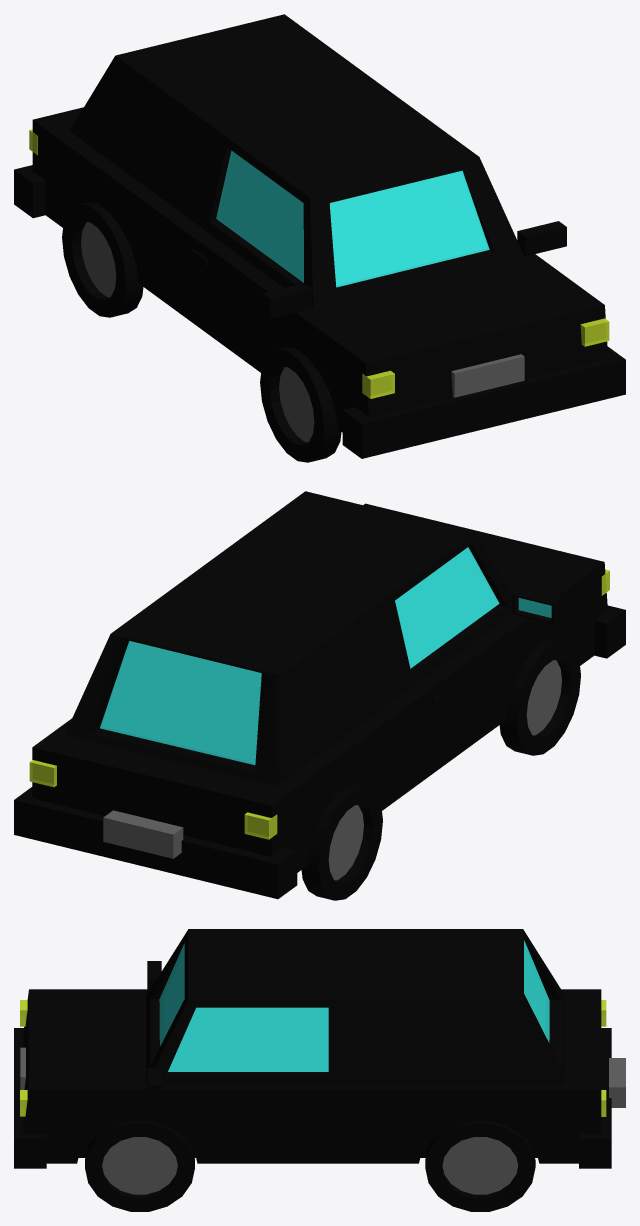
The model's file is lowpoly car1 black.fbx.
3 renders of one model, top to bottom at view 1: azimuth 30°, elevation 25°; view 2: azimuth 150°, elevation 25°; view 3: azimuth 270°, elevation 25°, orthographic. The views are drawn at different scales.
Visible parts, largest first — view 1: Box002, Box009, Box003, Cylinder026, Cylinder008, Box012, Box004, Box013, Box008, Box173, Box006, Box005; view 2: Box002, Box178, Box013, Cylinder008, Cylinder026, Box012, Box050, Box003, Box008, Box016, Box015; view 3: Box002, Box014, Cylinder025, Cylinder027, Box013, Box003, Box009, Box178, Box050, Box173.
Part boxes in pixels (x1,y1,x2,y2): Box002: [32, 14, 608, 432]; Box009: [329, 170, 489, 287]; Box003: [342, 346, 625, 458]; Cylinder026: [260, 347, 341, 462]; Cylinder008: [62, 202, 143, 317]; Box012: [216, 150, 303, 282]; Box004: [451, 354, 524, 397]; Box013: [14, 165, 45, 218]; Box008: [262, 283, 311, 318]; Box173: [517, 221, 566, 256]; Box006: [362, 370, 394, 398]; Box005: [580, 318, 609, 346]; Box002: [32, 491, 607, 872]; Box178: [100, 641, 261, 765]; Box013: [14, 787, 297, 899]; Cylinder008: [301, 785, 382, 900]; Cylinder026: [499, 639, 580, 755]; Box012: [395, 547, 499, 668]; Box050: [103, 810, 183, 858]; Box003: [594, 605, 625, 658]; Box008: [512, 588, 561, 623]; Box016: [244, 812, 277, 839]; Box015: [29, 760, 56, 787]; Box002: [23, 929, 601, 1163]; Box014: [168, 1007, 328, 1071]; Cylinder025: [425, 1120, 535, 1211]; Cylinder027: [85, 1120, 194, 1211]; Box013: [579, 1028, 611, 1168]; Box003: [14, 1028, 46, 1168]; Box009: [159, 943, 184, 1046]; Box178: [524, 940, 549, 1042]; Box050: [609, 1058, 625, 1107]; Box173: [147, 1068, 161, 1101].
Bounding box in the file's own units: 52.22 × 38.2 × 109.
